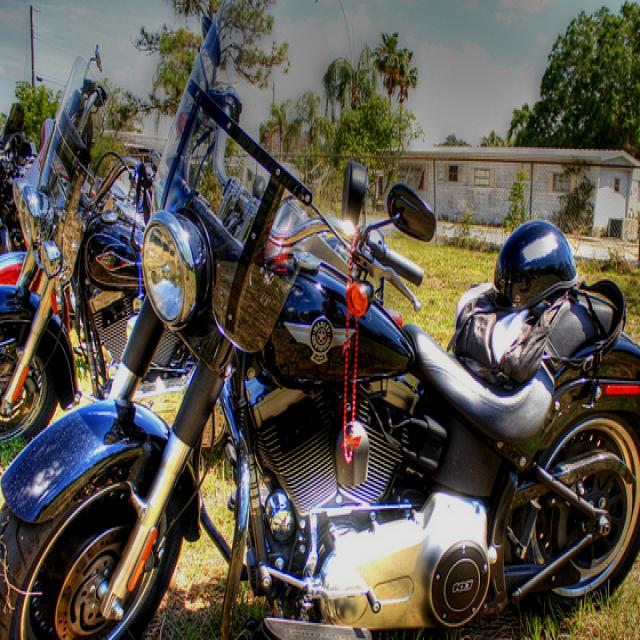Vehicle: (0, 0, 640, 640), (0, 51, 156, 454)
